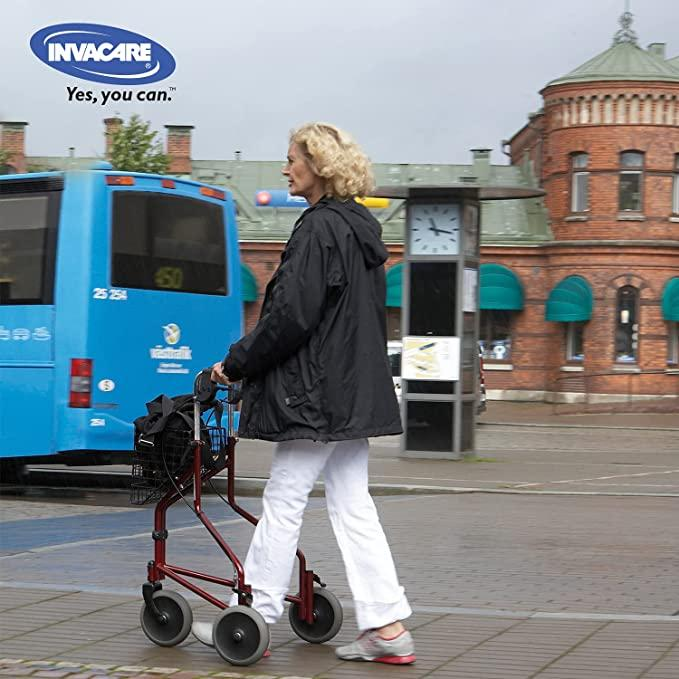crutches: (130, 122, 416, 665)
